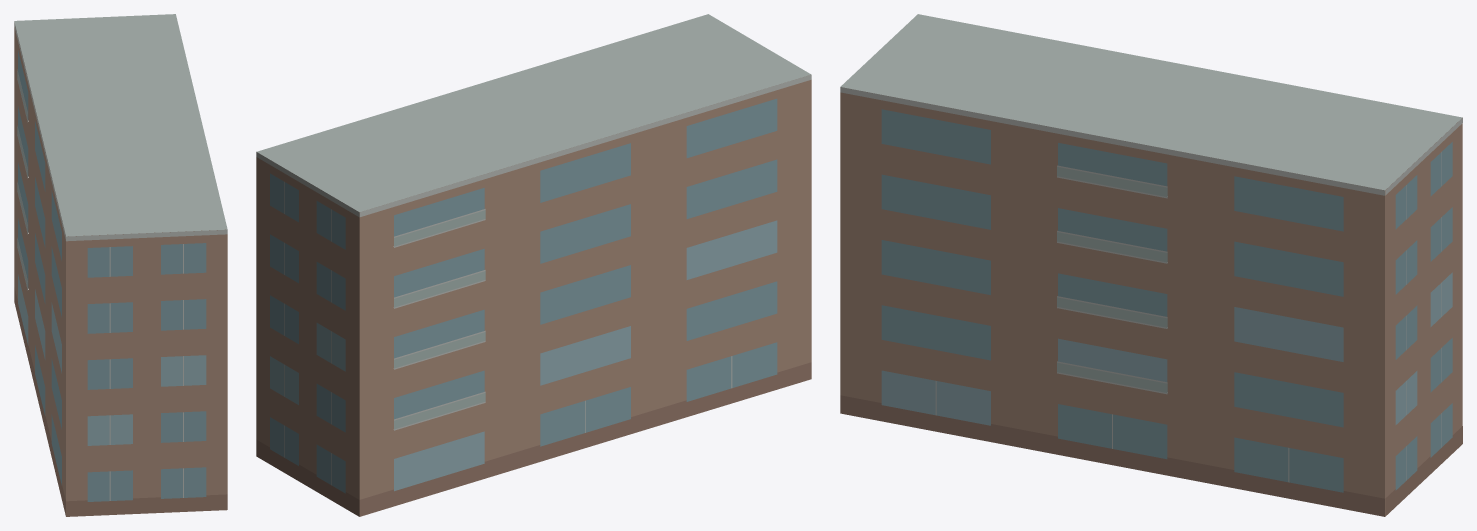
Rendered from survey-upis-32671274.glb.
3 renders of one model, left to right at view 1: azimuth 30°, elevation 25°; view 2: azimuth 150°, elevation 25°; view 3: azimuth 270°, elevation 25°, orthographic. The views are drawn at different scales.
Visible parts, largest first — view 1: survey-upis-32671274.tmp; view 2: survey-upis-32671274.tmp; view 3: survey-upis-32671274.tmp.
Part boxes in pixels (box(x1,y1,x2,y2)): survey-upis-32671274.tmp: box(14, 14, 227, 516); survey-upis-32671274.tmp: box(256, 14, 811, 516); survey-upis-32671274.tmp: box(840, 14, 1462, 516).
Bounding box in the file's own units: 16.8 × 14.5 × 25.06.
